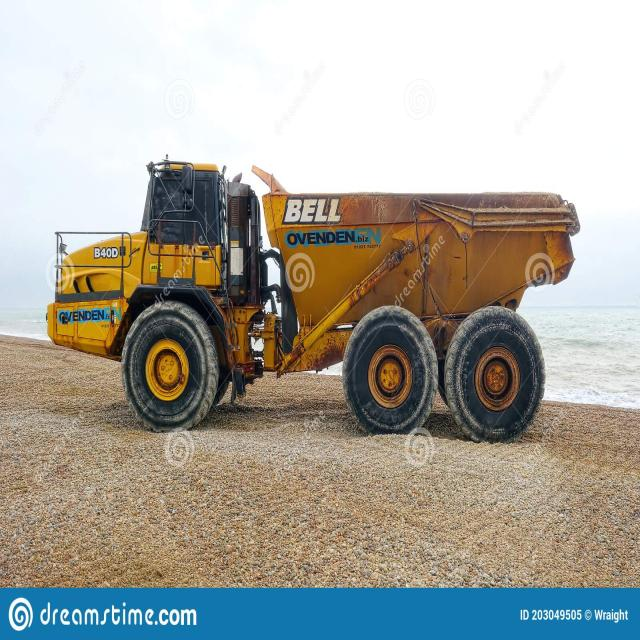dump_truck: (39, 136, 592, 467)
